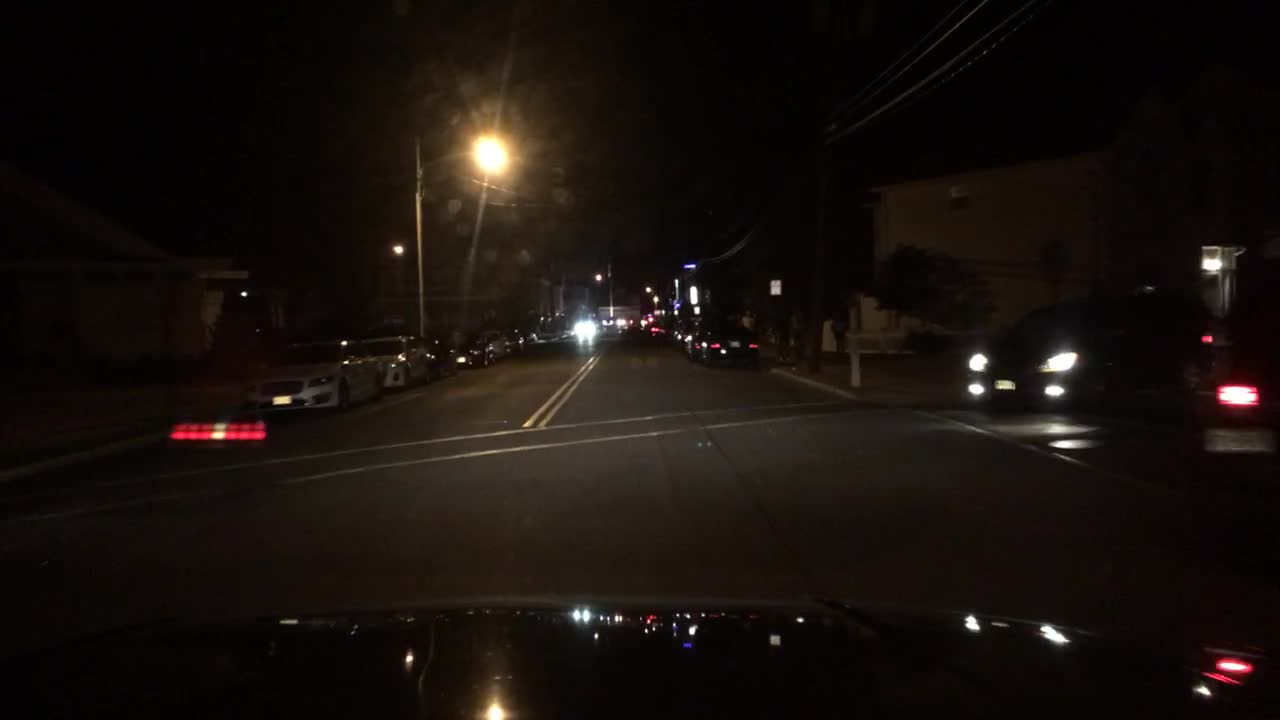car: (952, 281, 1215, 407), (239, 333, 387, 414), (1213, 336, 1278, 425), (683, 319, 764, 367), (359, 337, 432, 390), (420, 335, 459, 381), (447, 337, 498, 369), (473, 329, 511, 358), (675, 316, 701, 344), (499, 328, 526, 354), (572, 318, 601, 339), (642, 321, 667, 337), (519, 326, 539, 345), (614, 317, 635, 333), (668, 319, 683, 336), (638, 319, 647, 331)
traffic sign: (689, 285, 698, 306), (770, 279, 781, 295), (693, 305, 699, 315), (672, 308, 679, 315)
